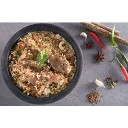briyani: (13, 33, 72, 92)
